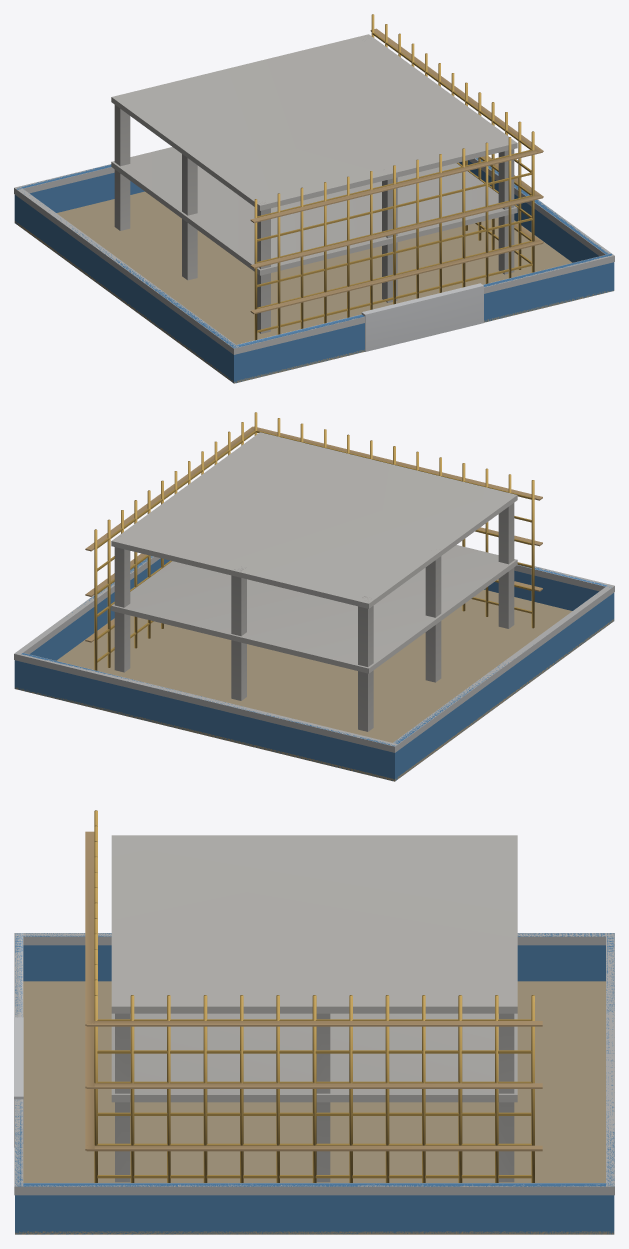
The model's file is build-2-1.glb.
3 renders of one model, top to bottom at view 1: azimuth 30°, elevation 25°; view 2: azimuth 150°, elevation 25°; view 3: azimuth 270°, elevation 25°, orthographic. The views are drawn at different scales.
Parts seen in each view (by area): view 1: build-2-1; view 2: build-2-1; view 3: build-2-1.
Boxes of the visible parts, box(x1,y1,x2,y2) form: build-2-1: box(14, 14, 614, 383); build-2-1: box(14, 412, 614, 781); build-2-1: box(14, 810, 614, 1234).
Bounding box in the file's own units: 1.92 × 0.723 × 1.93.
